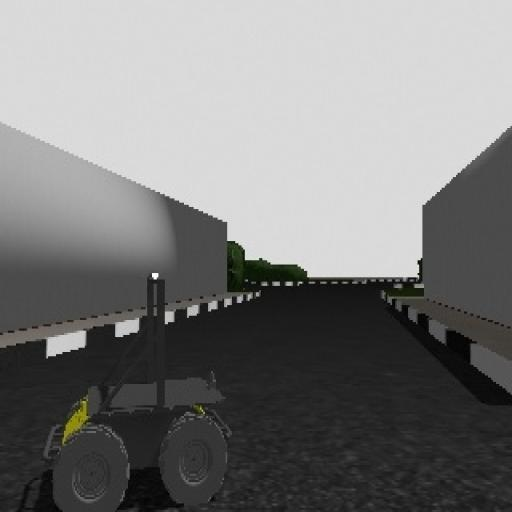huskya200: (54, 252, 250, 512)
